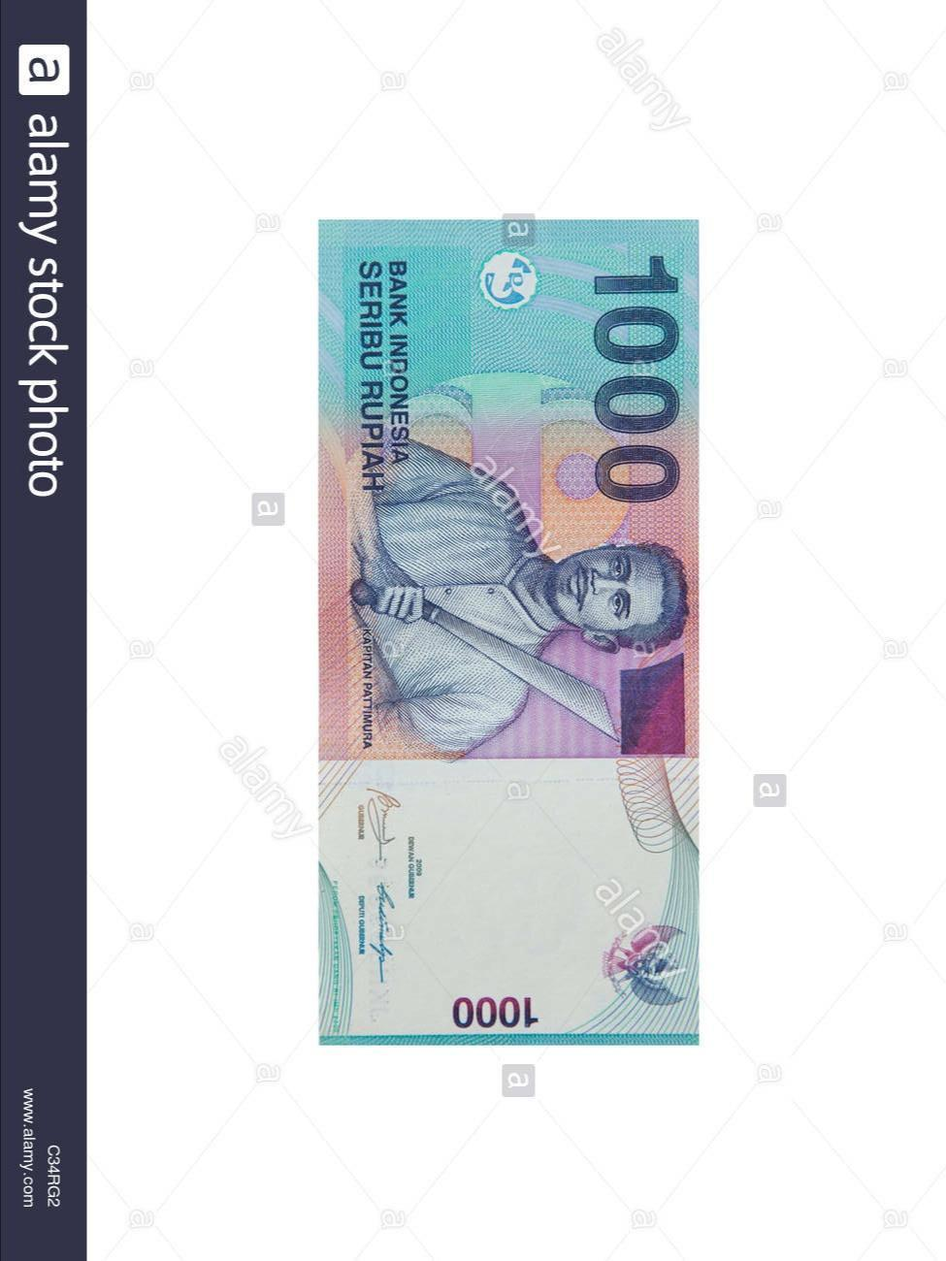1000IndonesianRupiah: (318, 211, 691, 1048)
